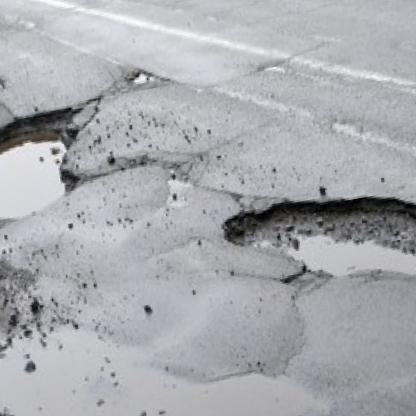pothole: (218, 162, 416, 321), (0, 102, 93, 234), (128, 64, 163, 88)
